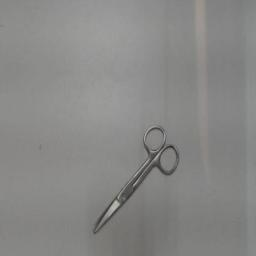Dressing Scissors: (86, 116, 186, 242)
